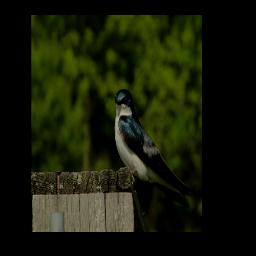Swallow: (113, 88, 194, 208)
